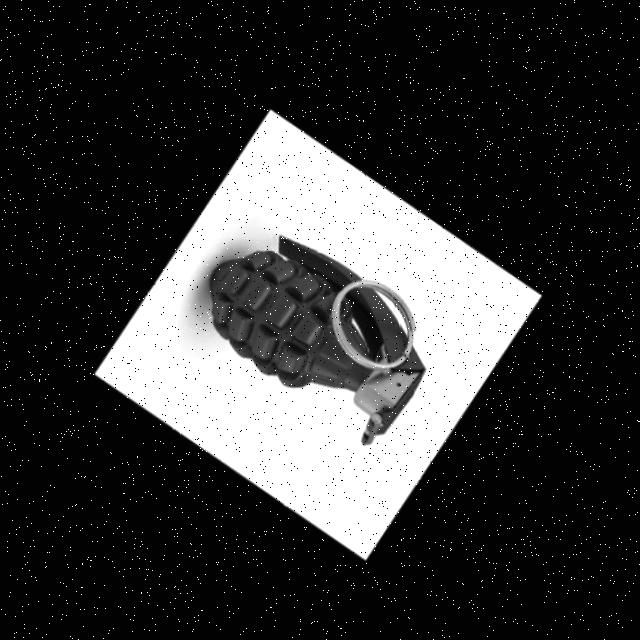grenade: (188, 185, 456, 474)
